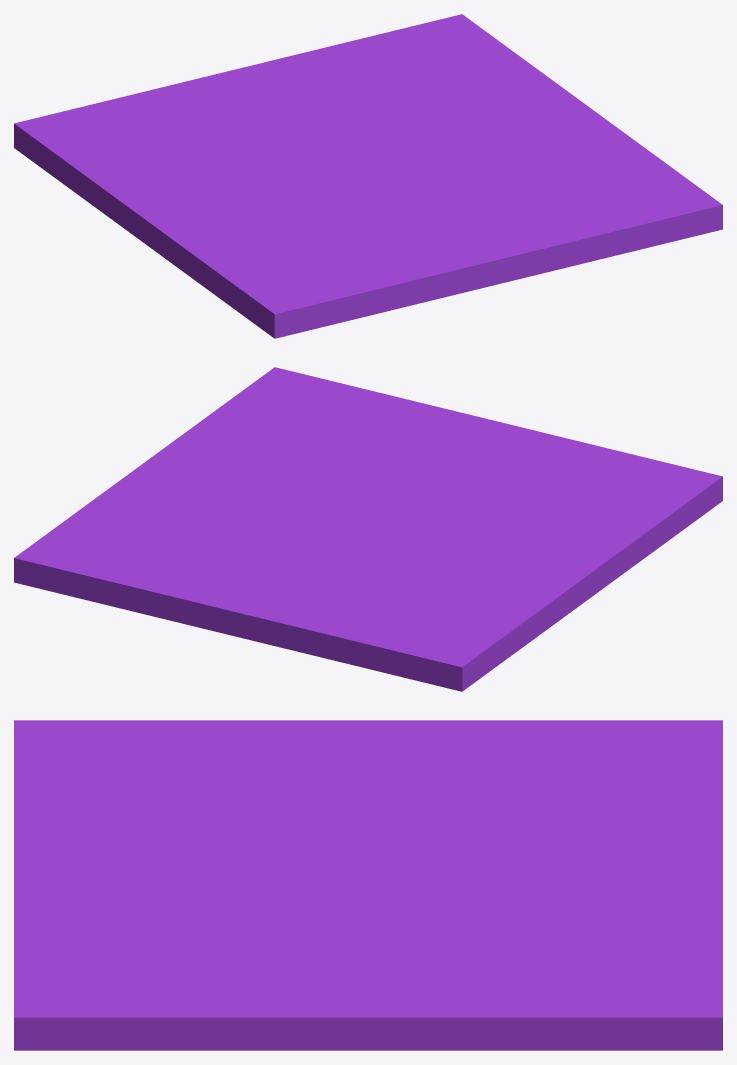
The model's file is Window_177_chunks.fbx.
3 views of the same model, one above another, from view 1: azimuth 30°, elevation 25°; view 2: azimuth 150°, elevation 25°; view 3: azimuth 270°, elevation 25° (orthographic). The views are drawn at different scales.
Parts seen in each view (by area): view 1: Window_177_7, Window_177_35, Window_177_27, Window_177_16, Window_177_33, Window_177_25, Window_177_2, Window_177_13, Window_177_26, Window_177_44, Window_177_39, Window_177_47 (+28 smaller); view 2: Window_177_27, Window_177_16, Window_177_26, Window_177_35, Window_177_25, Window_177_7, Window_177_2, Window_177_13, Window_177_33, Window_177_44, Window_177_39, Window_177_47 (+30 smaller); view 3: Window_177_27, Window_177_35, Window_177_25, Window_177_7, Window_177_38, Window_177_16, Window_177_26, Window_177_2, Window_177_33, Window_177_39, Window_177_44, Window_177_47 (+32 smaller).
Part boxes in pixels (bbox=[...]): Window_177_7: bbox=[285, 237, 431, 332]; Window_177_35: bbox=[583, 146, 722, 254]; Window_177_27: bbox=[407, 14, 563, 100]; Window_177_16: bbox=[93, 182, 269, 275]; Window_177_33: bbox=[484, 200, 617, 287]; Window_177_25: bbox=[306, 87, 531, 138]; Window_177_2: bbox=[14, 122, 157, 178]; Window_177_13: bbox=[188, 251, 297, 338]; Window_177_26: bbox=[250, 46, 364, 116]; Window_177_44: bbox=[418, 190, 495, 288]; Window_177_39: bbox=[440, 89, 580, 152]; Window_177_47: bbox=[254, 151, 376, 192]; Window_177_27: bbox=[14, 483, 187, 609]; Window_177_16: bbox=[519, 520, 636, 630]; Window_177_26: bbox=[124, 556, 305, 630]; Window_177_35: bbox=[194, 367, 381, 428]; Window_177_25: bbox=[157, 489, 302, 563]; Window_177_7: bbox=[504, 441, 700, 493]; Window_177_2: bbox=[427, 594, 531, 678]; Window_177_13: bbox=[626, 471, 722, 563]; Window_177_33: bbox=[362, 393, 505, 452]; Window_177_44: bbox=[358, 423, 536, 478]; Window_177_39: bbox=[116, 463, 280, 504]; Window_177_47: bbox=[355, 500, 467, 562]; Window_177_27: bbox=[433, 943, 722, 1050]; Window_177_35: bbox=[14, 945, 233, 1050]; Window_177_25: bbox=[396, 870, 579, 992]; Window_177_7: bbox=[14, 734, 186, 833]; Window_177_38: bbox=[233, 968, 442, 1050]; Window_177_16: bbox=[233, 720, 505, 783]; Window_177_26: bbox=[543, 861, 722, 930]; Window_177_2: bbox=[486, 720, 722, 774]; Window_177_33: bbox=[14, 864, 181, 946]; Window_177_39: bbox=[305, 923, 445, 1034]; Window_177_44: bbox=[14, 843, 239, 914]; Window_177_47: bbox=[284, 798, 463, 875].
Bounding box in the file's own units: 1165 × 60.81 × 1174.
